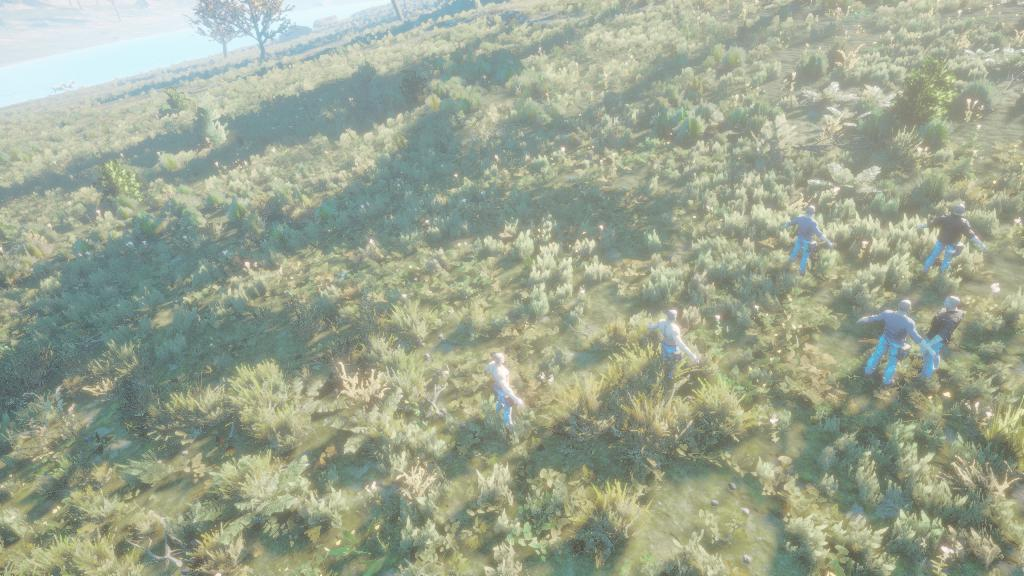human: (857, 281, 966, 407), (903, 173, 996, 281), (761, 175, 844, 284), (464, 333, 540, 443), (638, 298, 706, 418)
